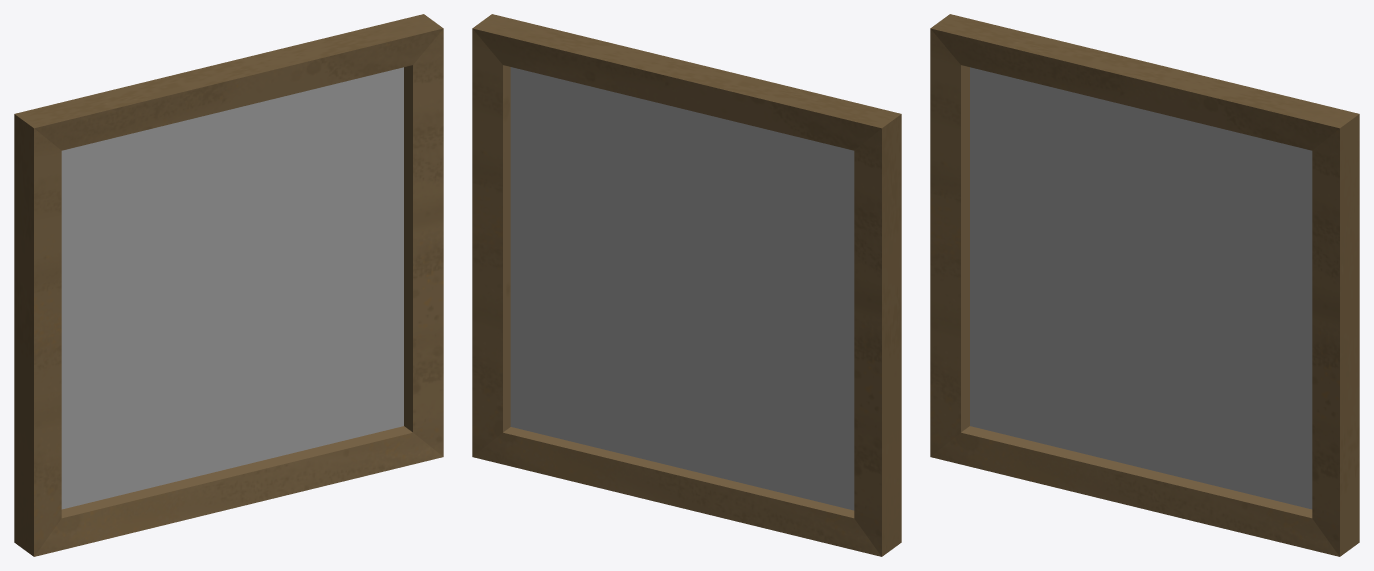
Rendered from SM_museumFrame1.fbx.
3 renders of one model, left to right at view 1: azimuth 30°, elevation 25°; view 2: azimuth 150°, elevation 25°; view 3: azimuth 330°, elevation 25°, orthographic.
Visible parts, largest first — view 1: pPlane63, picFrame1; view 2: pPlane63, picFrame1; view 3: pPlane63, picFrame1.
Part boxes in pixels (bbox=[...]): pPlane63: bbox=[61, 67, 403, 509]; picFrame1: bbox=[14, 14, 443, 556]; pPlane63: bbox=[510, 67, 854, 510]; picFrame1: bbox=[472, 14, 901, 556]; pPlane63: bbox=[970, 67, 1312, 509]; picFrame1: bbox=[930, 14, 1359, 556].
Size of the model in its own units: 13.39 by 13.39 by 1.12.
2 materials, 1 textured.
